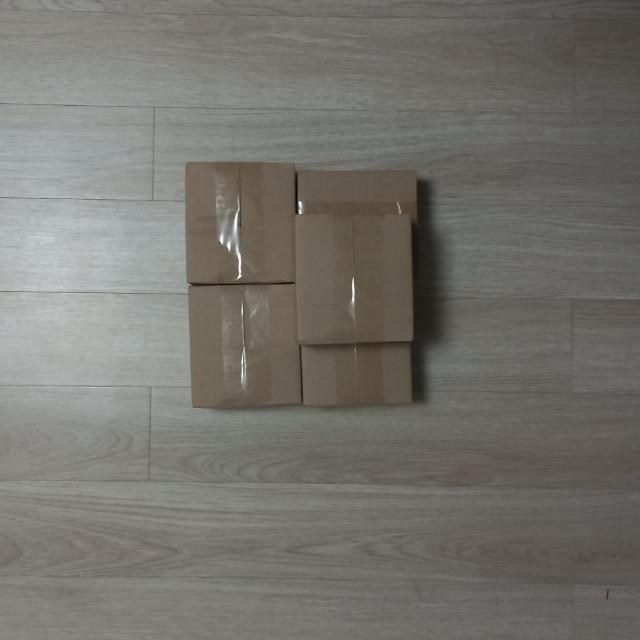box: (293, 213, 418, 347), (186, 284, 304, 408), (185, 161, 299, 286)
